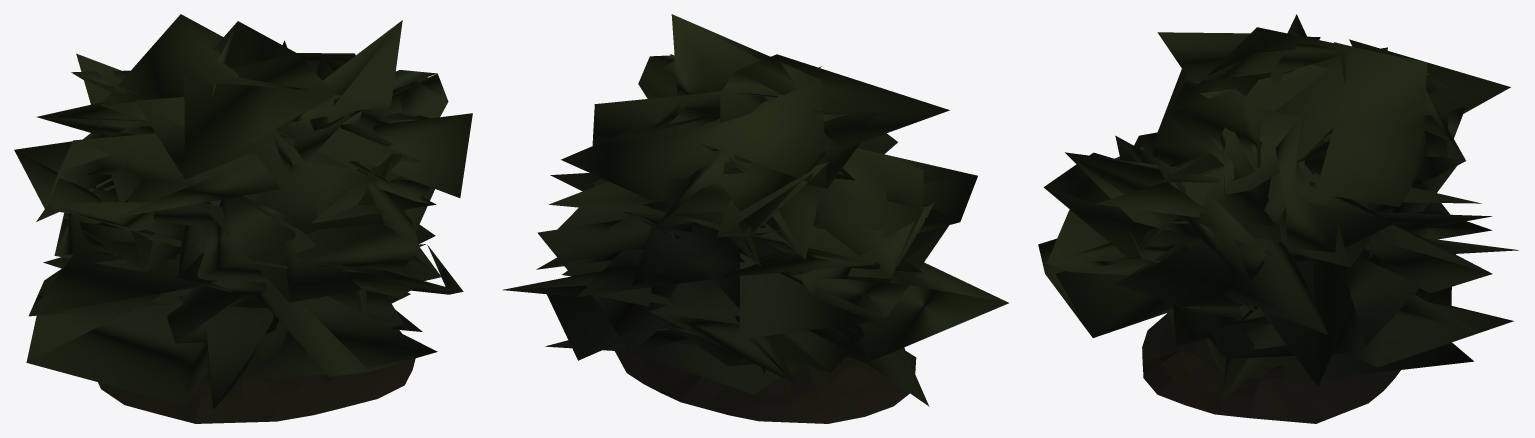
Rendered from PC_BushRound_50cm.FBX.
3 renders of one model, left to right at view 1: azimuth 30°, elevation 25°; view 2: azimuth 150°, elevation 25°; view 3: azimuth 270°, elevation 25°, orthographic. The views are drawn at different scales.
Parts seen in each view (by area): view 1: BushRound_50cm; view 2: BushRound_50cm; view 3: BushRound_50cm.
Boxes of the visible parts, x1,y1,x2,y2 form: BushRound_50cm: (14, 14, 472, 423); BushRound_50cm: (502, 14, 1008, 423); BushRound_50cm: (1038, 14, 1518, 423).
Bounding box in the file's own units: 0.8646 × 0.6201 × 0.8263.
